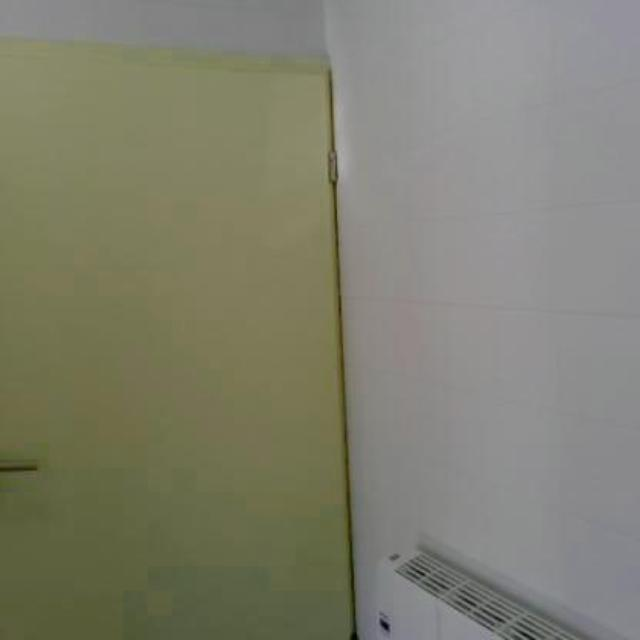door: (1, 31, 356, 639)
